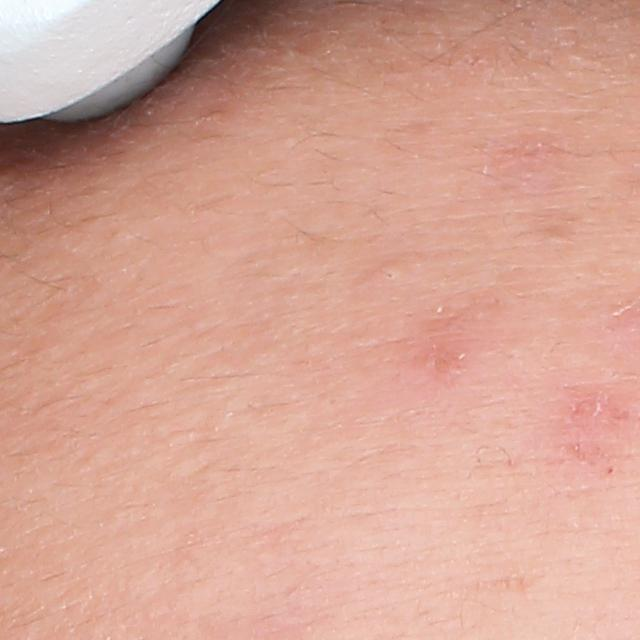comedo: (379, 262, 406, 285)
